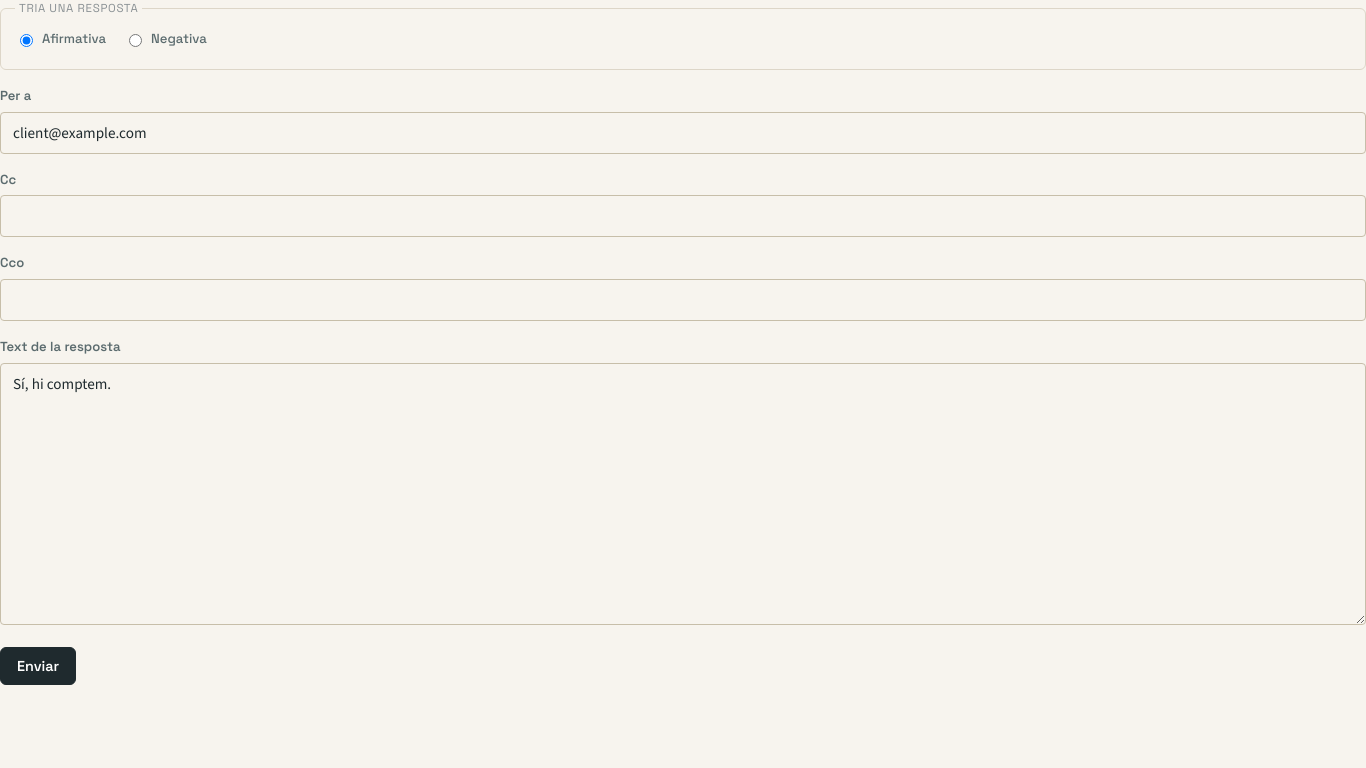
DraftOptionsForm › never sends when cancelled inside the countdown
Click the button "Enviar".
click(38, 666)  # box [0,647,76,685]
Wait 3000 ms
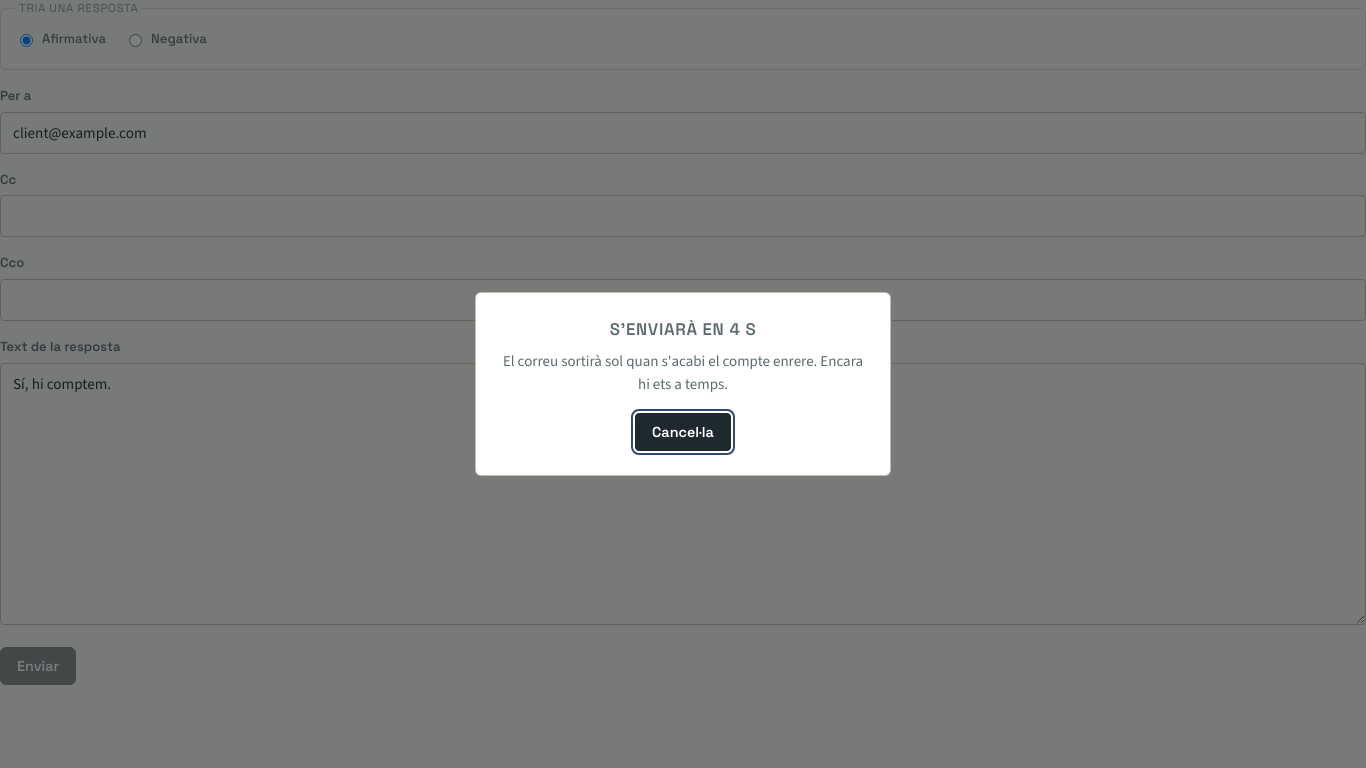
Click the button "Cancel·la".
click(683, 432)  # box [635,413,731,451]
Wait 60000 ms
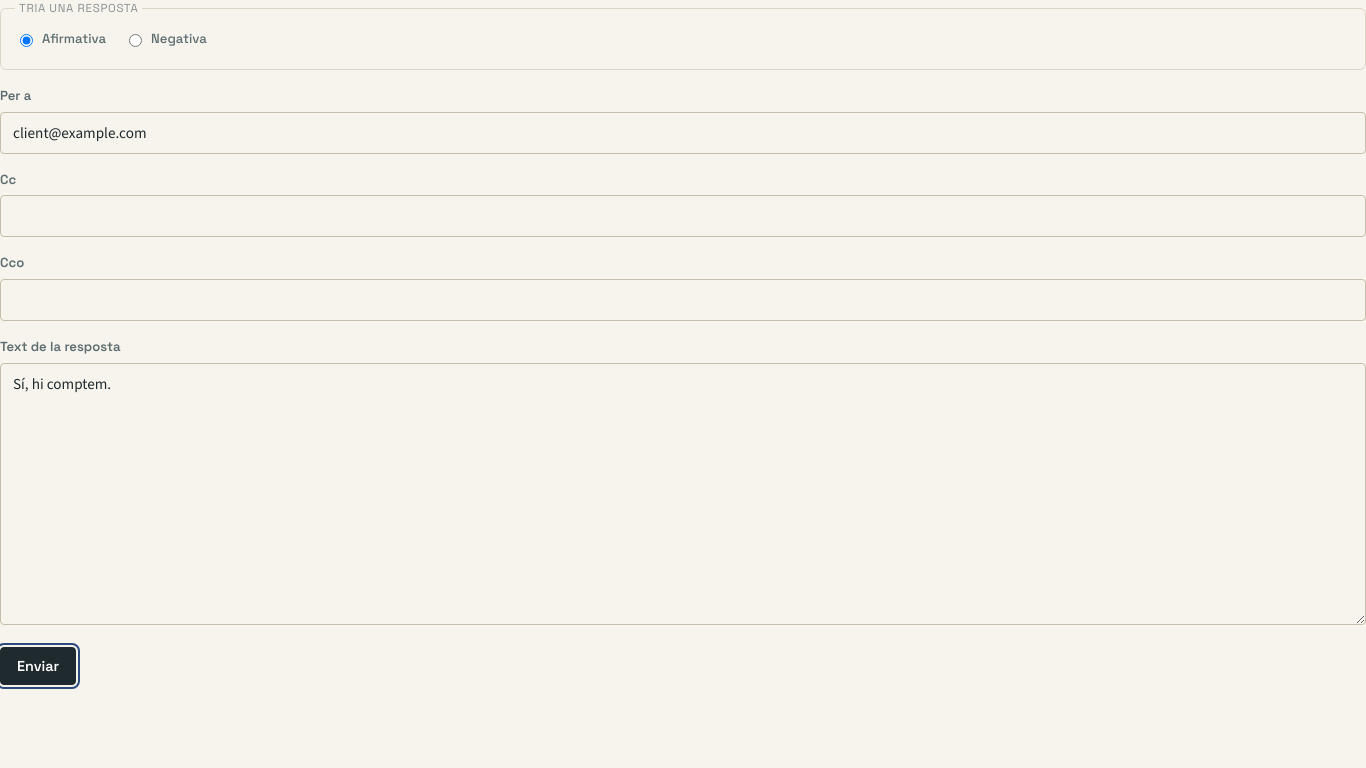
Result: the dialog is gone
